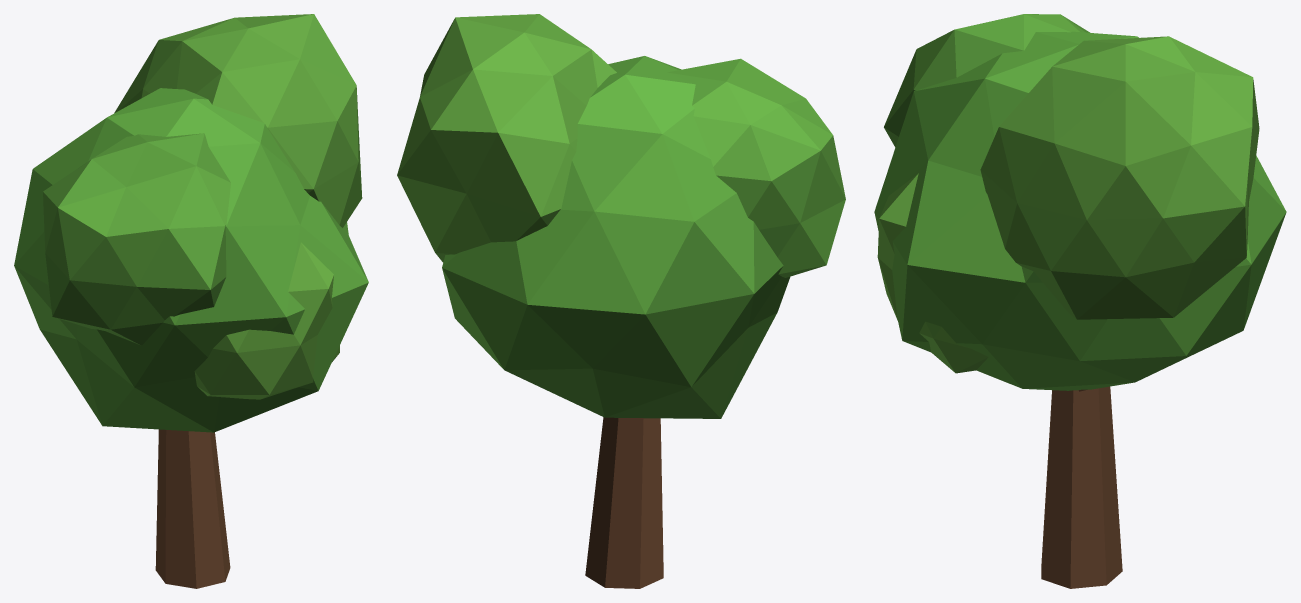
Rendered from tree_broad_0.glb.
3 renders of one model, left to right at view 1: azimuth 30°, elevation 25°; view 2: azimuth 150°, elevation 25°; view 3: azimuth 270°, elevation 25°, orthographic. The views are drawn at different scales.
Parts seen in each view (by area): view 1: tree_broad_0; view 2: tree_broad_0; view 3: tree_broad_0.
Part boxes in pixels (x1,y1,x2,y2): tree_broad_0: (14, 14, 368, 588); tree_broad_0: (397, 14, 845, 588); tree_broad_0: (874, 14, 1286, 588).
Bounding box in the file's own units: 4.26 × 6.16 × 4.05.
